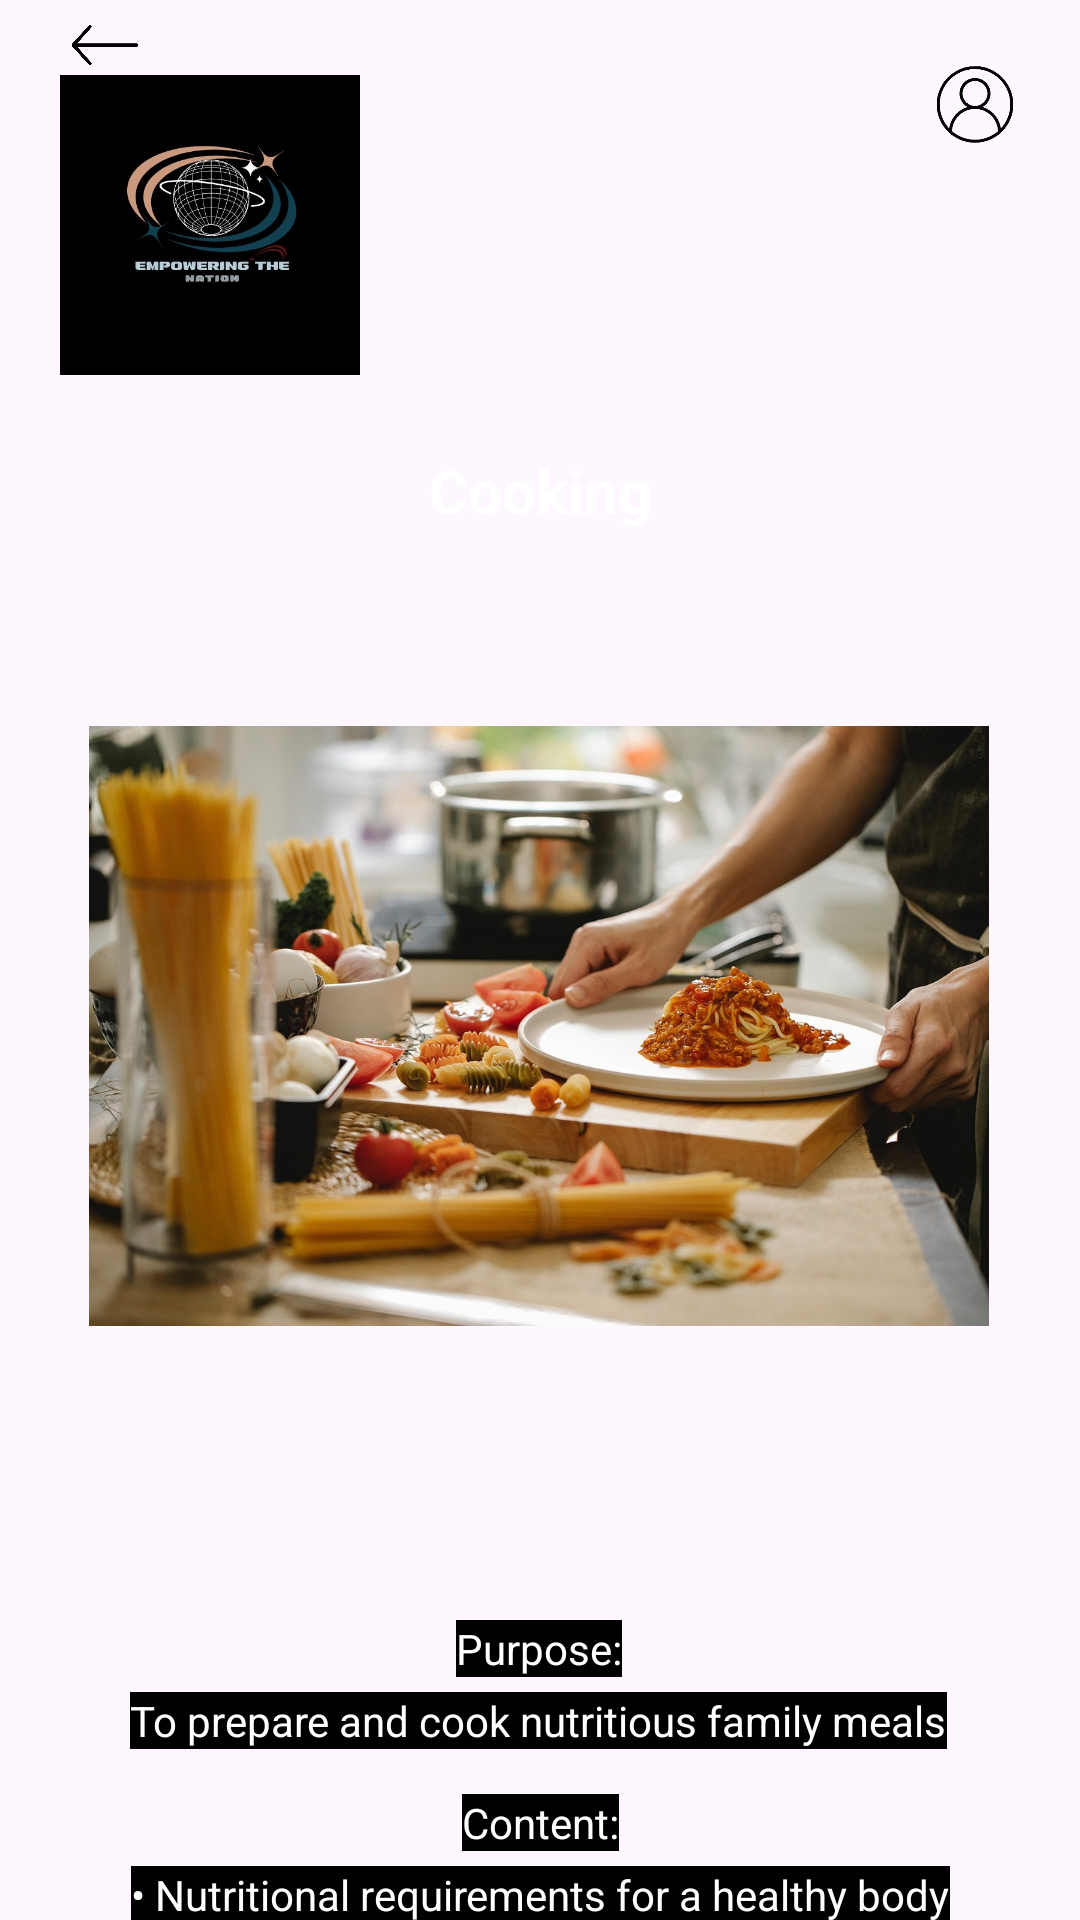

Locate icon controls on the screen. Image size 1080x1920, boxes as (x1,y1,x2,y2).
back: (72,25,138,65)
